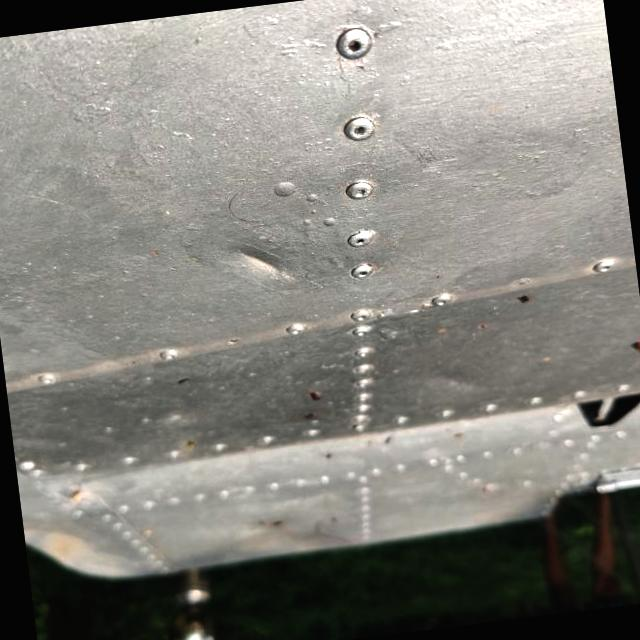dent: (199, 202, 317, 316)
